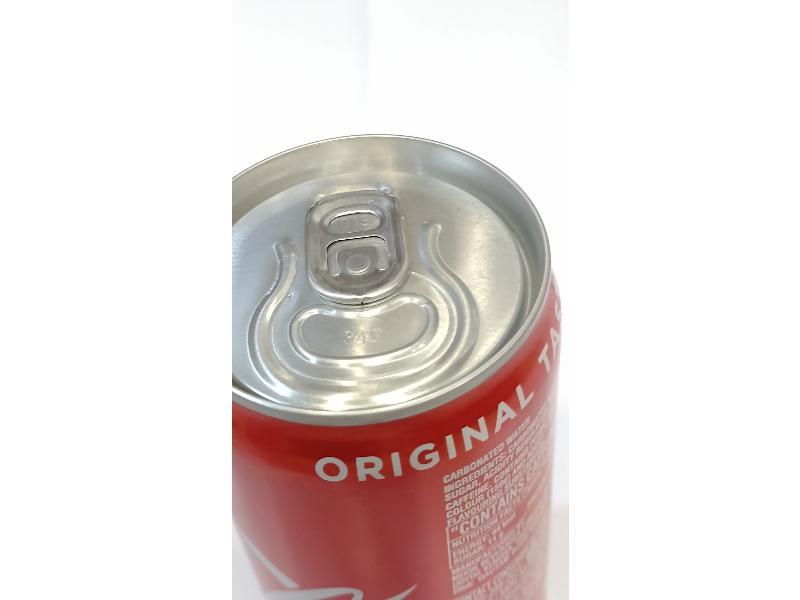can: (231, 125, 563, 592)
